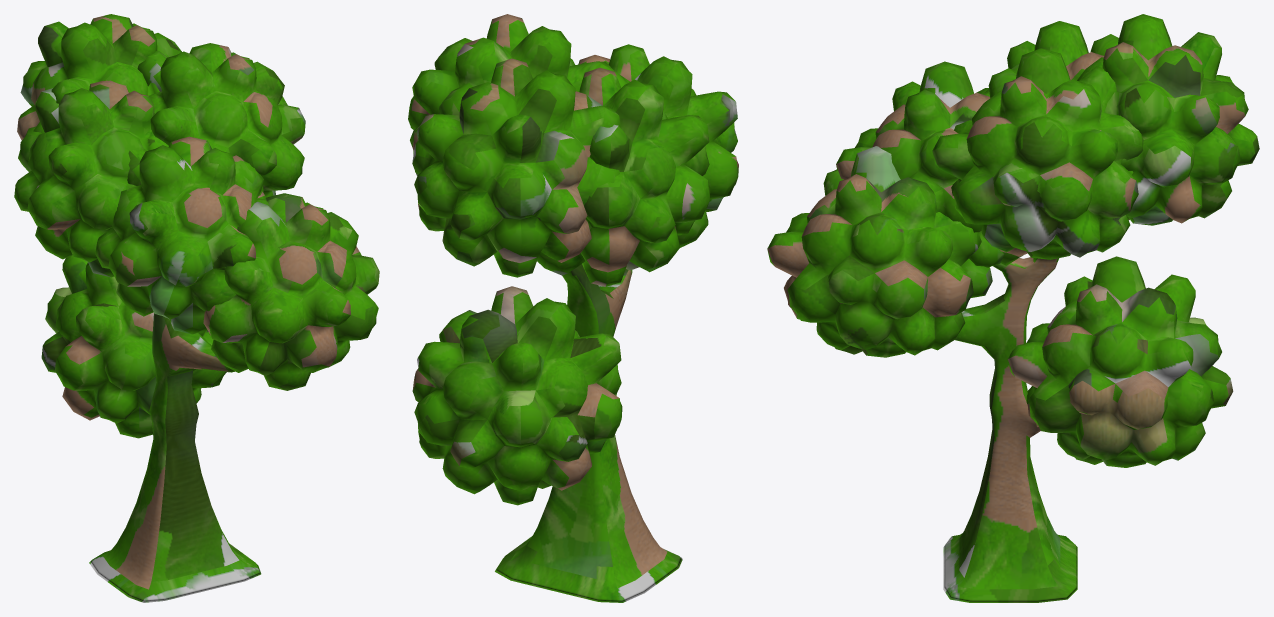
The model's file is EucalpytreeTextured.fbx.
3 renders of one model, left to right at view 1: azimuth 30°, elevation 25°; view 2: azimuth 150°, elevation 25°; view 3: azimuth 270°, elevation 25°, orthographic. The views are drawn at different scales.
Visible parts, largest first — view 1: Eucalypt; view 2: Eucalypt; view 3: Eucalypt.
Boxes of the visible parts, bbox=[...] form: Eucalypt: bbox=[14, 14, 379, 602]; Eucalypt: bbox=[408, 14, 738, 602]; Eucalypt: bbox=[767, 14, 1259, 602].
Size of the model in its own units: 40.79 by 75.19 by 62.49.
